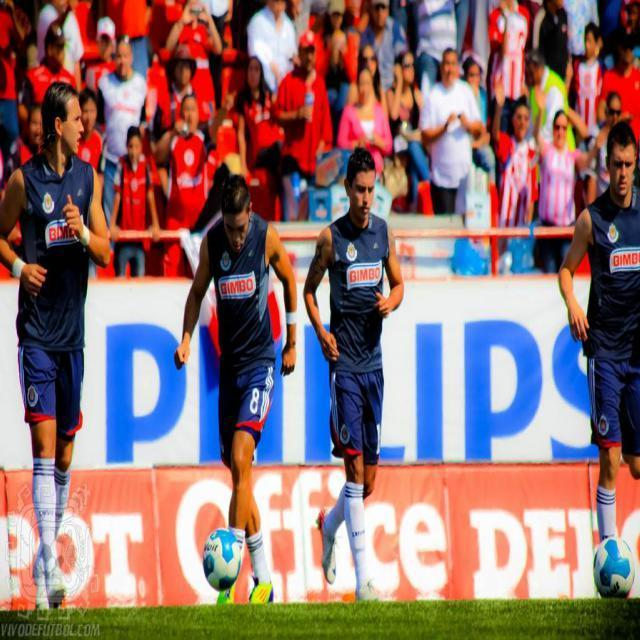football: (187, 519, 244, 597)
